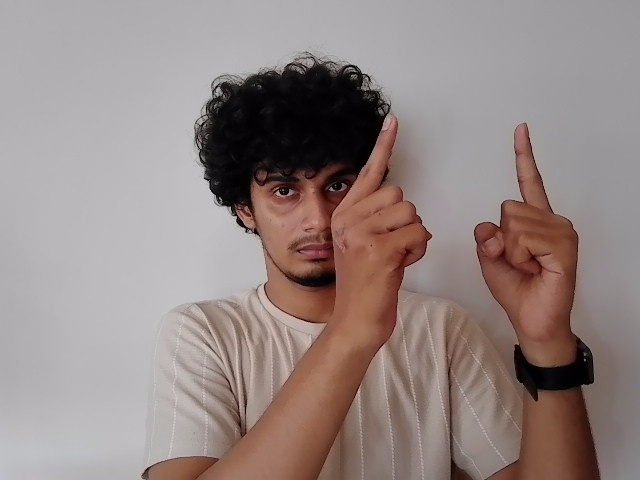play: (328, 107, 579, 320)
